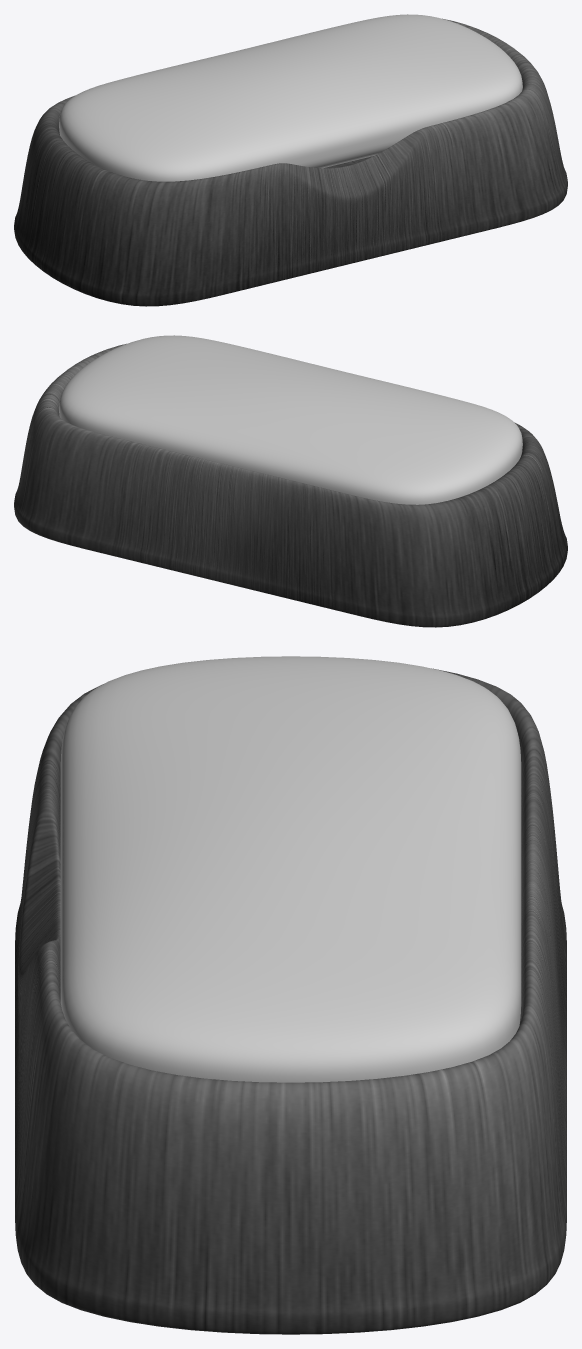
File: soap_.fbx
The picture shows the model from 3 angles, top to bottom: view 1: azimuth 30°, elevation 25°; view 2: azimuth 150°, elevation 25°; view 3: azimuth 270°, elevation 25°; orthographic projection. The views are drawn at different scales.
Parts seen in each view (by area): view 1: Subdivision_Surface_1, Subdivision_Surface_2; view 2: Subdivision_Surface_1, Subdivision_Surface_2; view 3: Subdivision_Surface_2, Subdivision_Surface_1.
Part boxes in pixels (box(x1,y1,x2,y2)): Subdivision_Surface_1: box(14, 18, 567, 306); Subdivision_Surface_2: box(59, 14, 522, 181); Subdivision_Surface_1: box(14, 343, 567, 627); Subdivision_Surface_2: box(59, 335, 522, 504); Subdivision_Surface_2: box(60, 656, 521, 1082); Subdivision_Surface_1: box(15, 668, 566, 1334).
Size of the model in its own units: 394 by 106 by 190.
2 materials, 1 textured.
